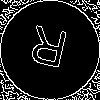R: (25, 25, 70, 78)
